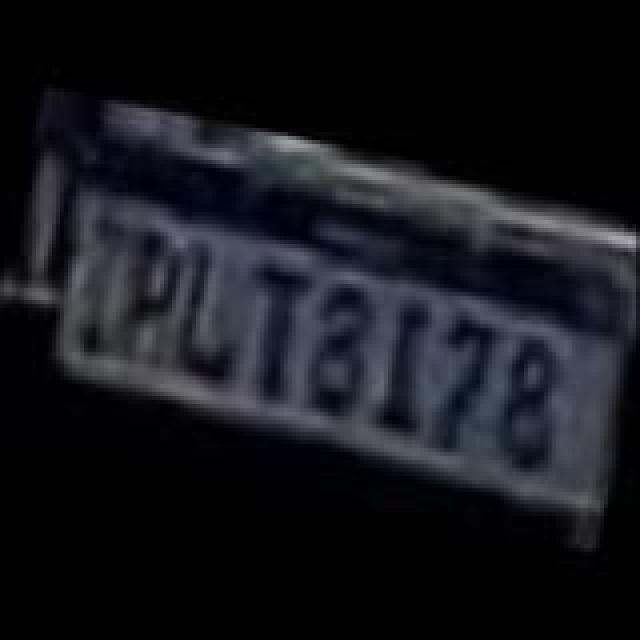7: (418, 308, 506, 456)
8: (488, 330, 580, 478), (294, 276, 382, 424)
I: (360, 294, 444, 438)
L: (164, 234, 256, 386)
P: (108, 222, 184, 370)
T: (230, 258, 326, 410)
